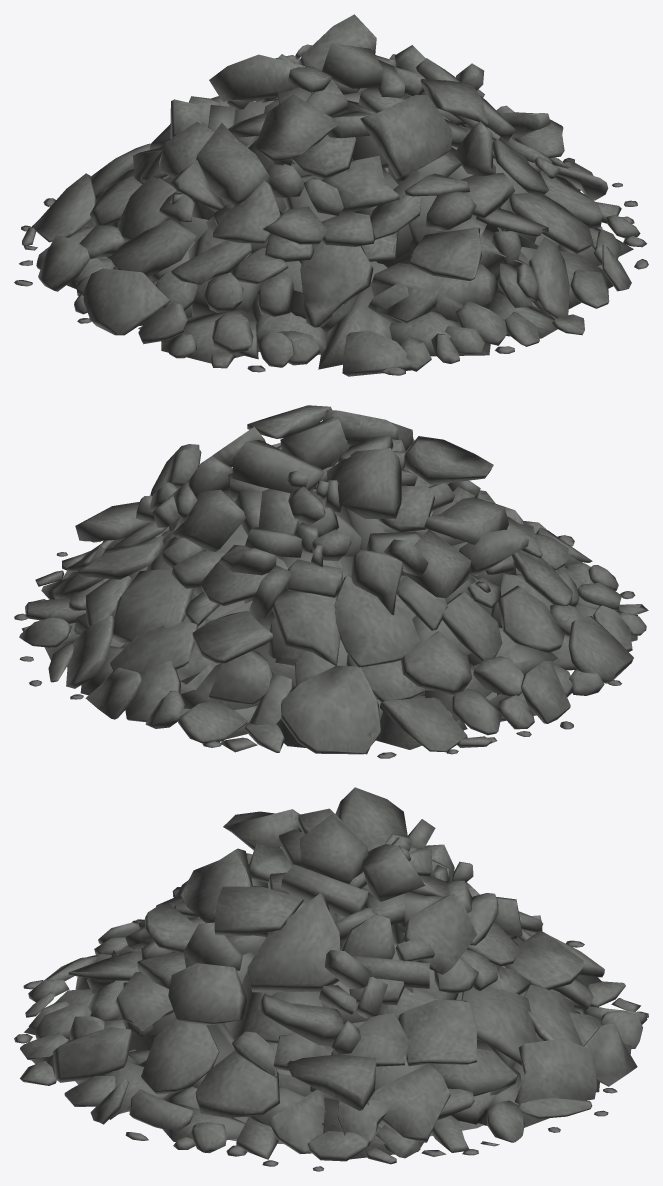
File: office-rubble-pile.glb
The picture shows the model from 3 angles, top to bottom: view 1: azimuth 30°, elevation 25°; view 2: azimuth 150°, elevation 25°; view 3: azimuth 270°, elevation 25°; orthographic projection. The views are drawn at different scales.
Parts seen in each view (by area): view 1: rubble-pile; view 2: rubble-pile; view 3: rubble-pile.
Boxes of the visible parts, <box> form: rubble-pile: <box>14,14,648,376</box>; rubble-pile: <box>14,405,648,758</box>; rubble-pile: <box>14,787,648,1171</box>.
Bounding box in the file's own units: 5 × 1.8 × 4.74.
1 material, 1 textured.
